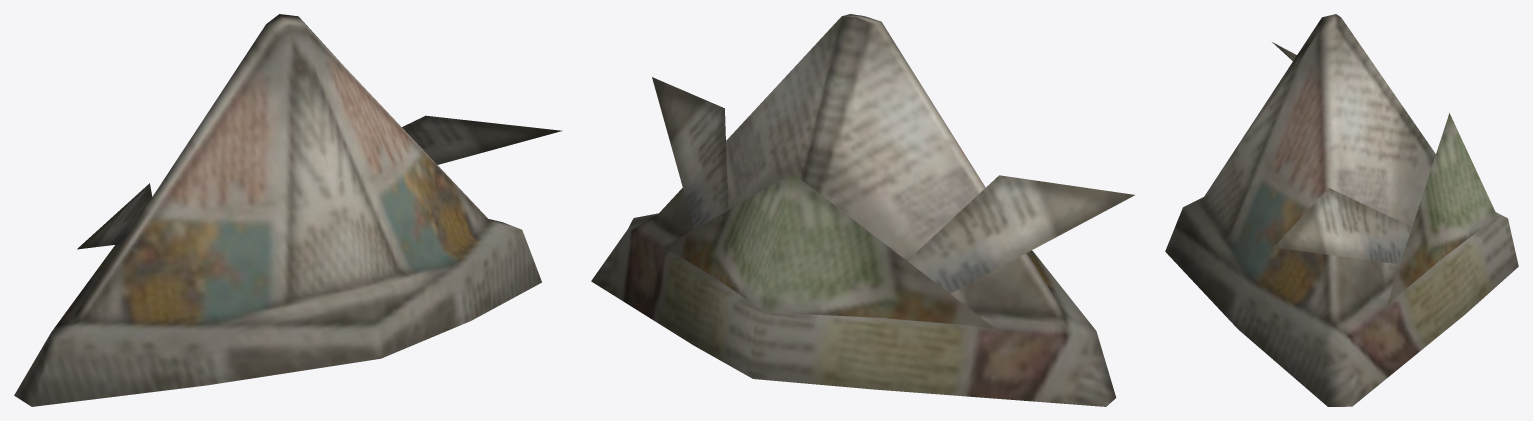
The model's file is paperHat.glb.
3 renders of one model, left to right at view 1: azimuth 30°, elevation 25°; view 2: azimuth 150°, elevation 25°; view 3: azimuth 270°, elevation 25°, orthographic. The views are drawn at different scales.
Visible parts, largest first — view 1: paperHat; view 2: paperHat; view 3: paperHat.
Boxes of the visible parts, <box> form: paperHat: <box>14,14,562,406</box>; paperHat: <box>591,14,1134,406</box>; paperHat: <box>1165,14,1518,406</box>.
Size of the model in its own units: 0.5599 by 0.3359 by 0.3821.
Materials: 1 (1 with a texture image).
